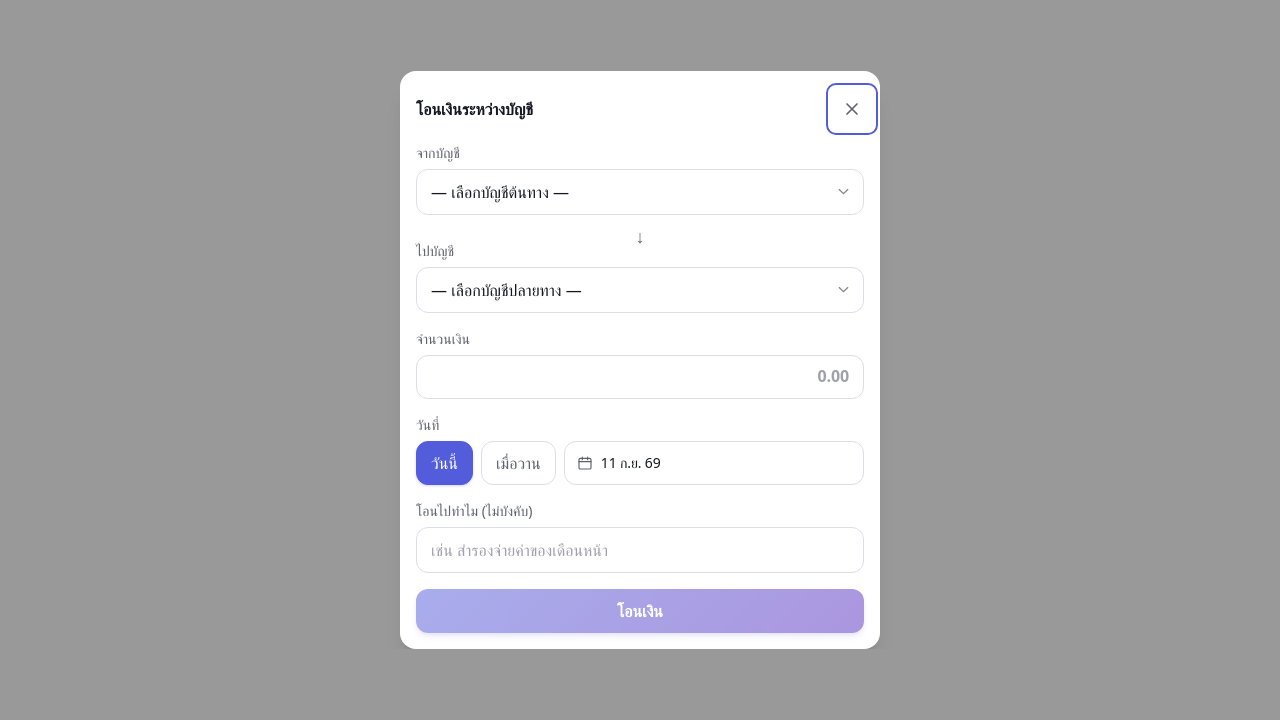
Test: โอนทั้งจำนวน › กดแล้วเติมยอดเต็มลงช่องจำนวนเงิน
The width and height of the screenshot is (1280, 720).
Select "กรุงไทย · 2,000" in the dropdown labelled "จากบัญชี": [640, 192] box left=416, top=169, right=864, bottom=215
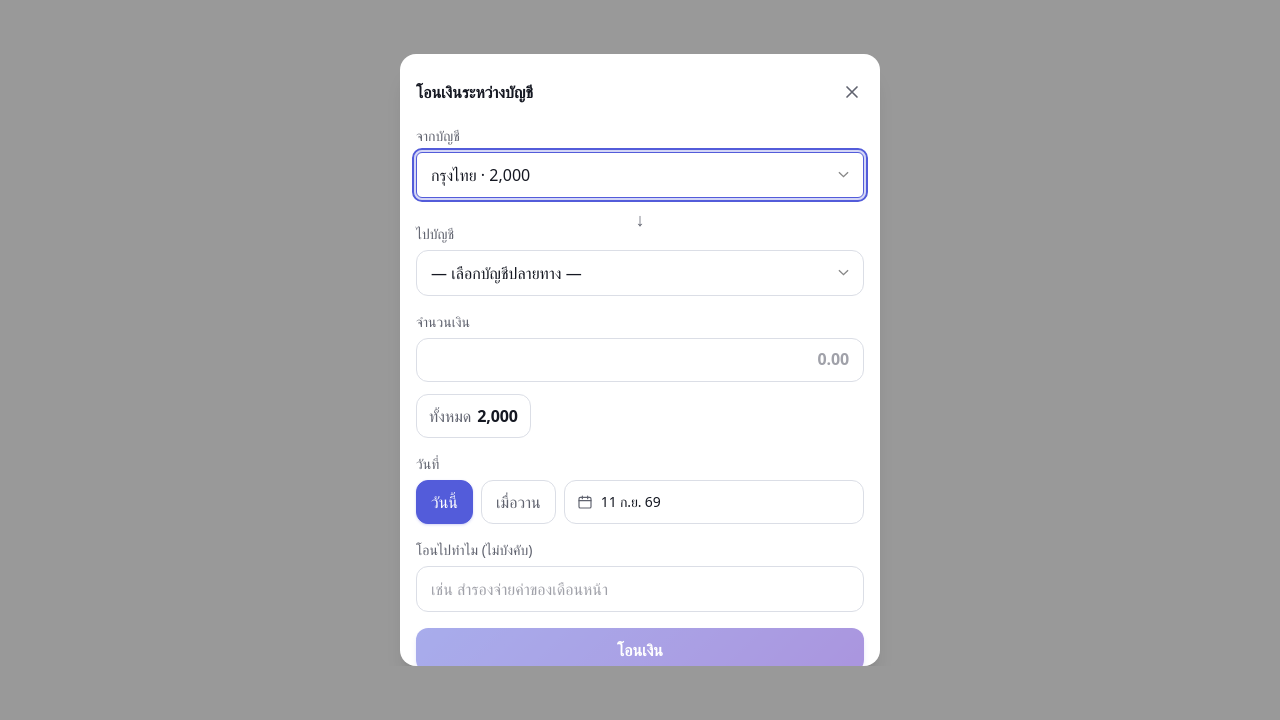
Click the button "ทั้งหมด 2,000": [473, 416] box left=416, top=394, right=531, bottom=438
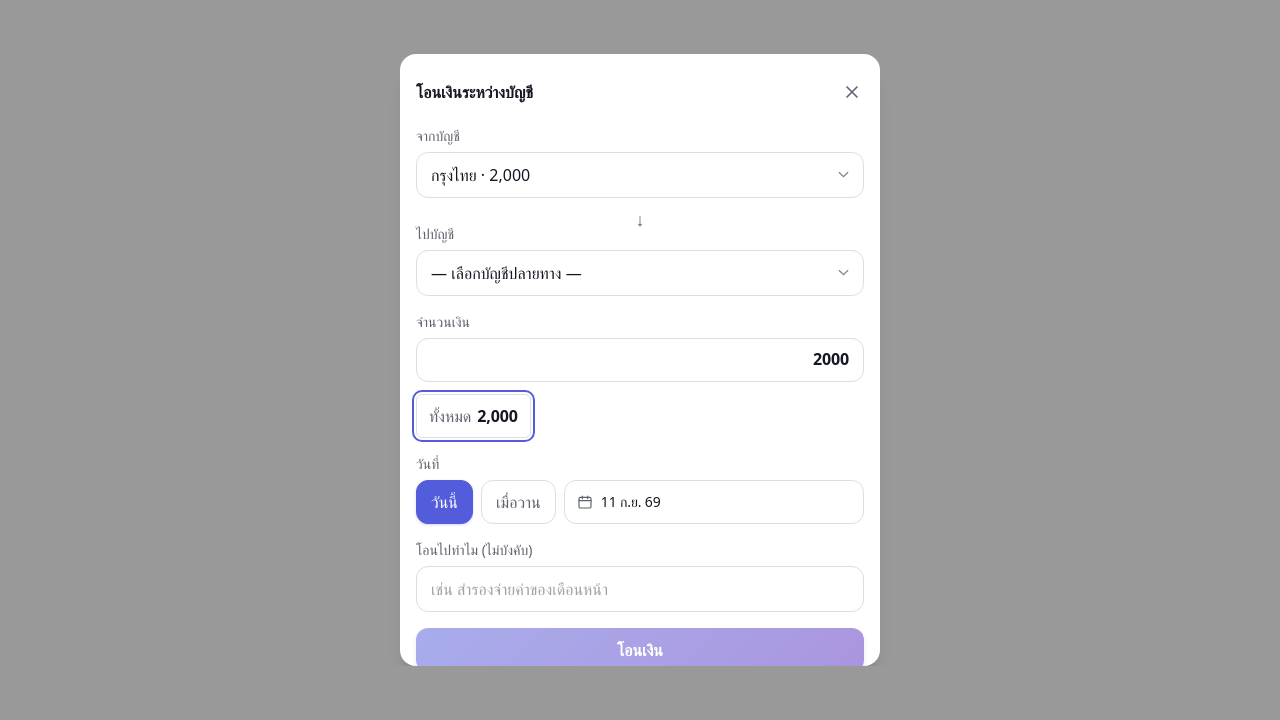
Expected: the field labelled "จำนวนเงิน" holds "2000", left=416, top=338, right=864, bottom=382
